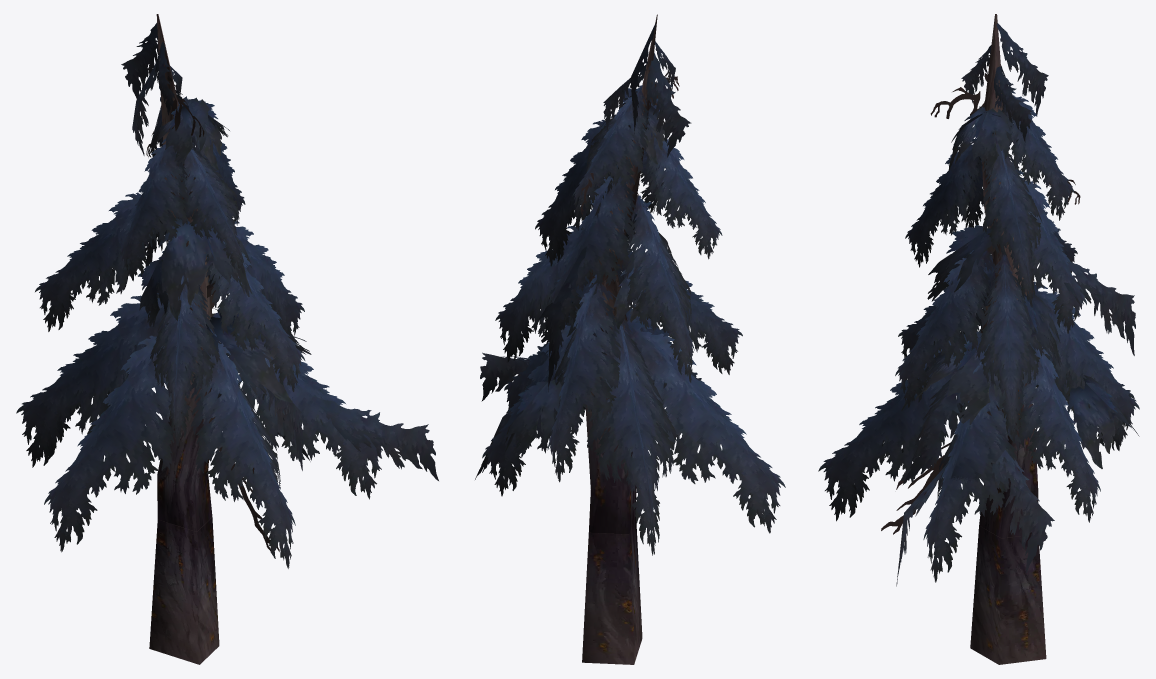
3 renders of one model, left to right at view 1: azimuth 30°, elevation 25°; view 2: azimuth 150°, elevation 25°; view 3: azimuth 270°, elevation 25°, orthographic. The views are drawn at different scales.
Size of the model in its own units: 13.84 by 24 by 11.39.
2 materials, 2 textured.
